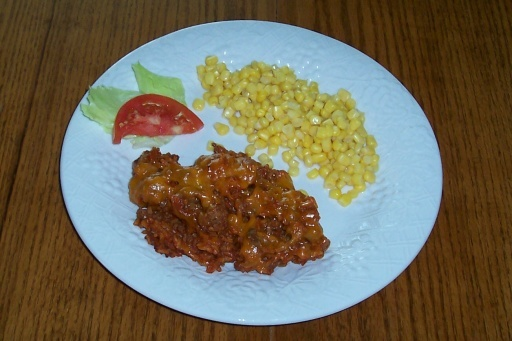background: (64, 29, 303, 147)
